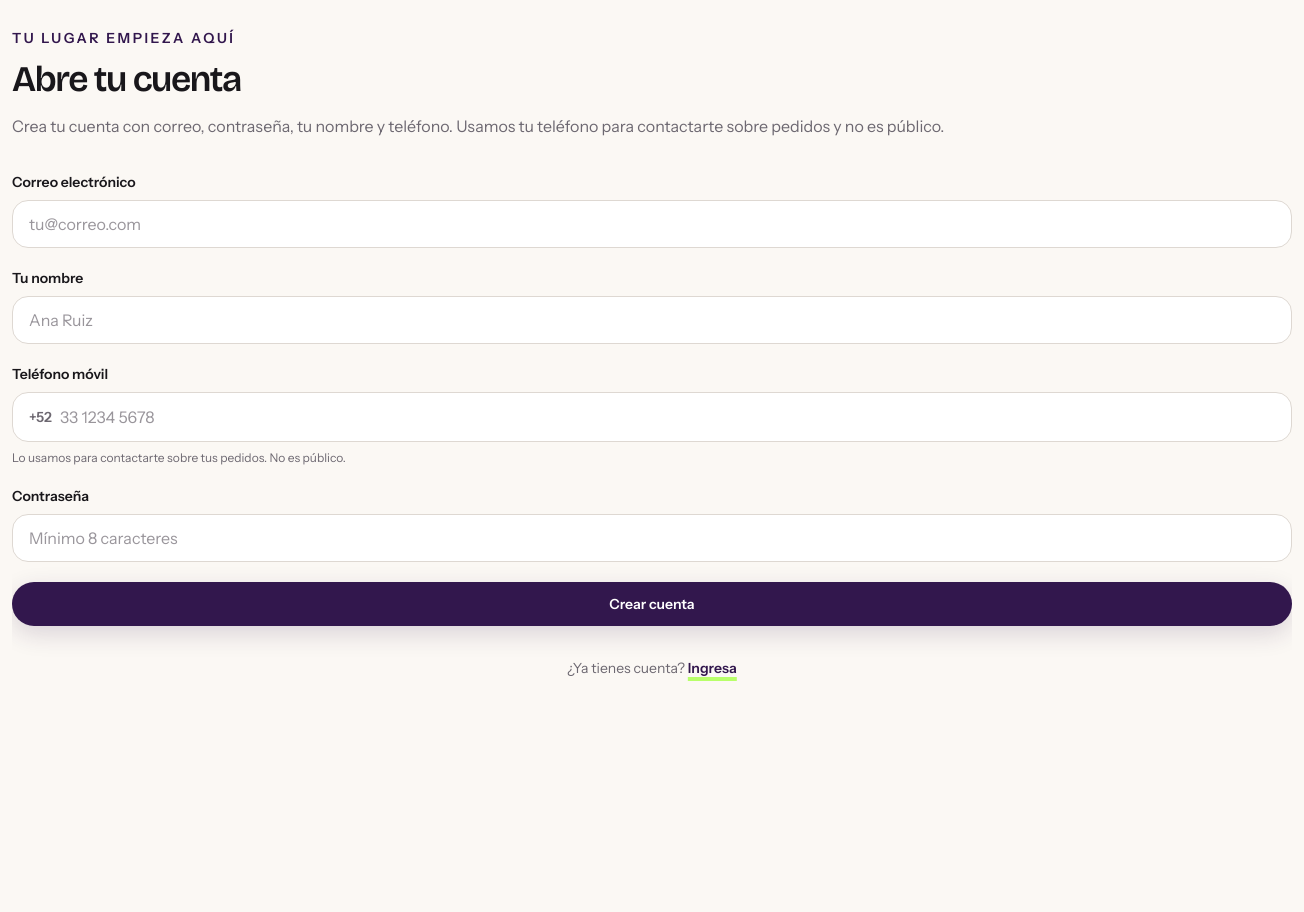
Scenario: completed signup › replaces signup fields with destination, steps, and contextual recovery
This screenshot has width=1304, height=912.
In the field labelled "Correo electrónico": (652, 224) [12, 200, 1292, 248], type "ana@correo.com"
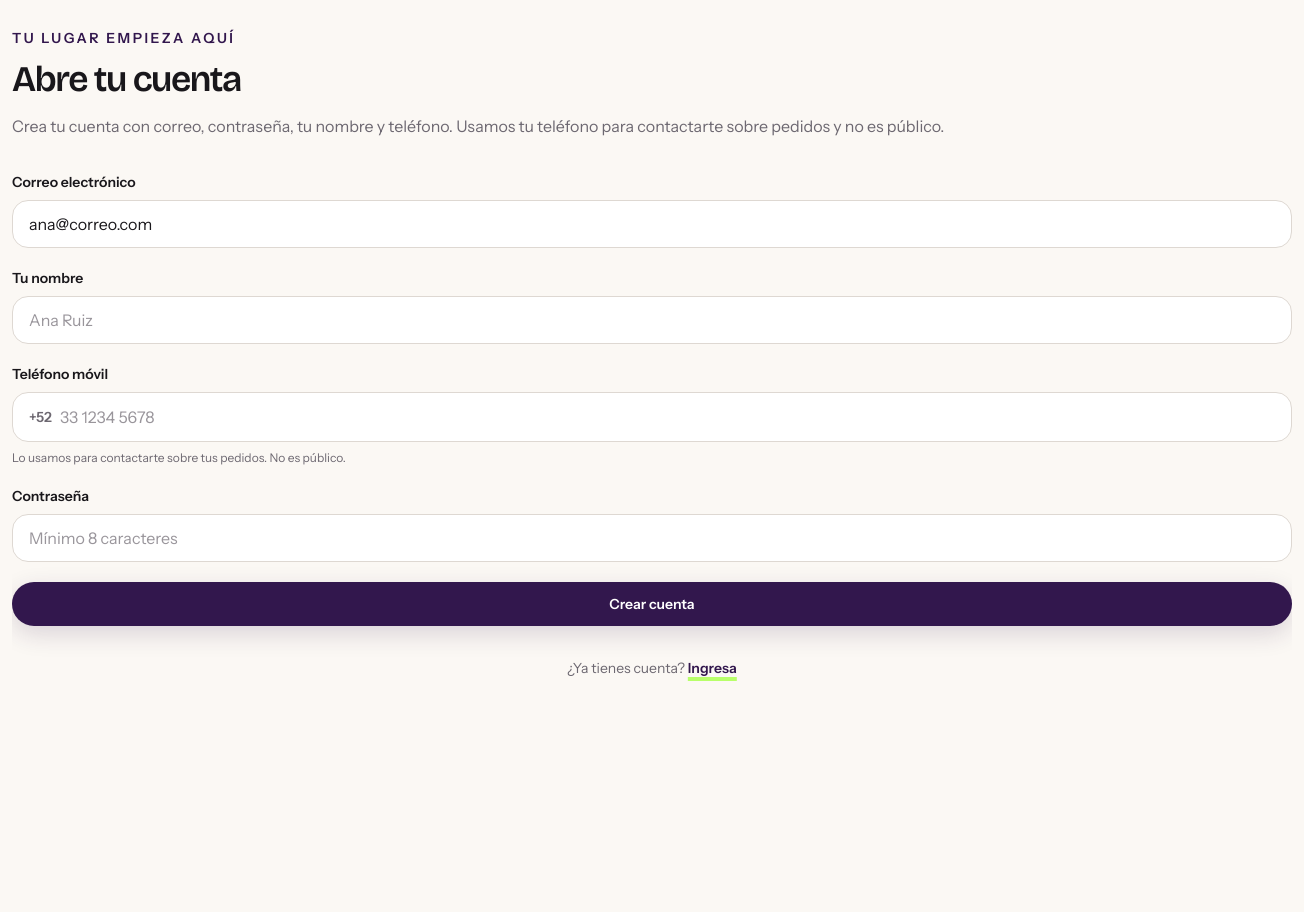
Click the button "Crear cuenta": (652, 604) [12, 582, 1292, 626]
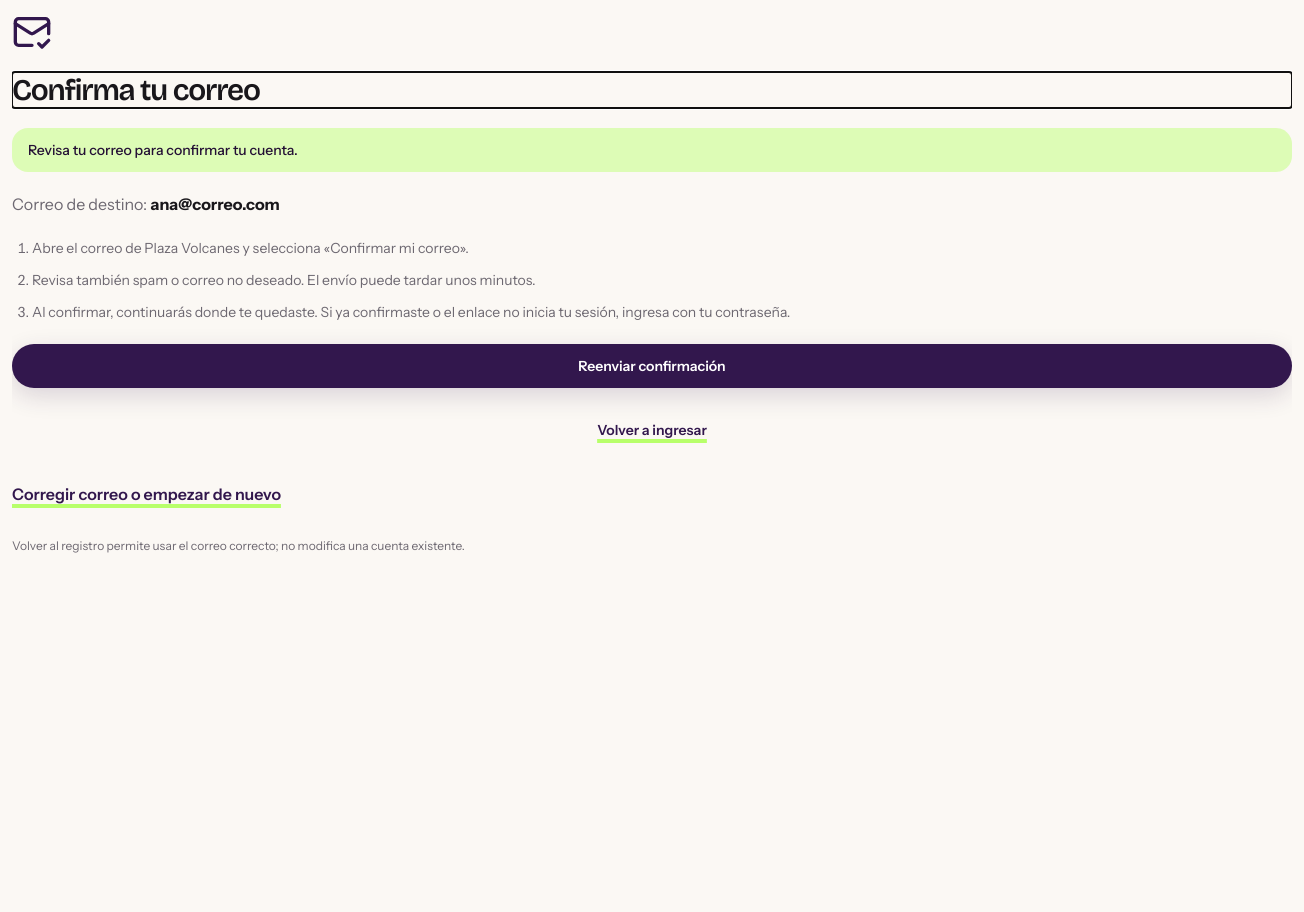
Now the heading "Confirma tu correo" is shown, box [12, 72, 260, 108]
Now the text "ana@correo.com" is shown, box [150, 194, 280, 214]
Now the button "Crear cuenta" is gone
